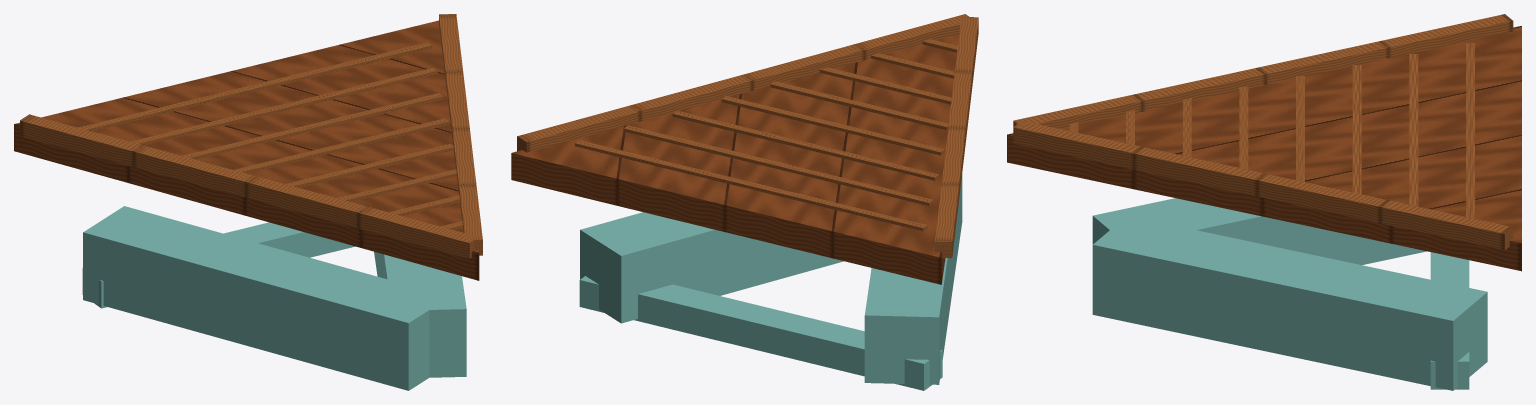
The model's file is ocean-raft-settlement-ocean-raft-settlement-triangular-9ef954b0__28899.glb.
3 views of the same model, side by side, from view 1: azimuth 30°, elevation 25°; view 2: azimuth 150°, elevation 25°; view 3: azimuth 270°, elevation 25° (orthographic). The views are drawn at different scales.
Parts seen in each view (by area): view 1: teal, wood, pale; view 2: wood, teal, pale; view 3: wood, teal, pale.
Part boxes in pixels (x1,y1,x2,y2): teal: (82, 206, 466, 390); wood: (14, 20, 479, 280); pale: (20, 14, 482, 258); wood: (511, 34, 958, 284); teal: (579, 174, 962, 390); pale: (517, 14, 978, 258); wood: (1007, 26, 1521, 271); teal: (1092, 198, 1487, 390); pale: (1013, 14, 1513, 250).
Bounding box in the file's own units: 2.02 × 0.765 × 2.
Materials: 3 (2 with a texture image).
